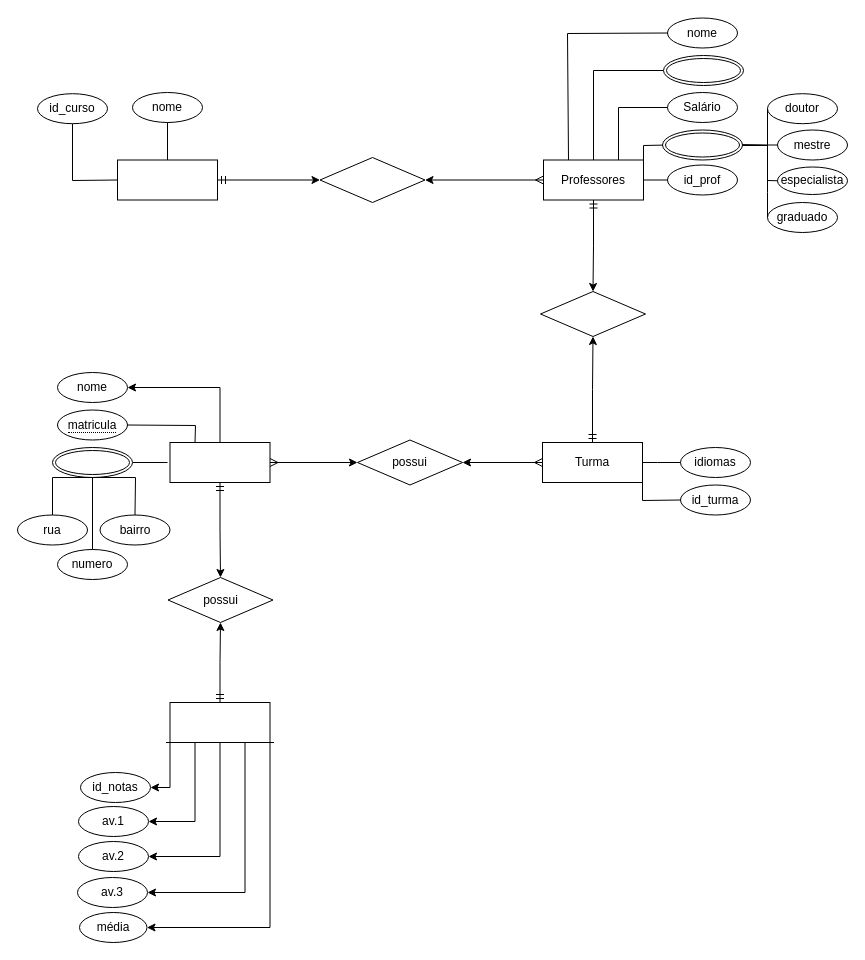
The diagram is 865 pixels wide and 960 high, and some of its shapes have lost their labels. Each missing label, with the box of its shape:
Aluno: (169, 442, 270, 482)
contrata: (319, 156, 425, 202)
Curso: (116, 159, 218, 200)
data_nasc: (662, 54, 744, 86)
endereço: (52, 446, 132, 478)
leciona: (540, 290, 646, 336)
Notas: (169, 702, 270, 742)
titulação: (662, 129, 742, 160)
